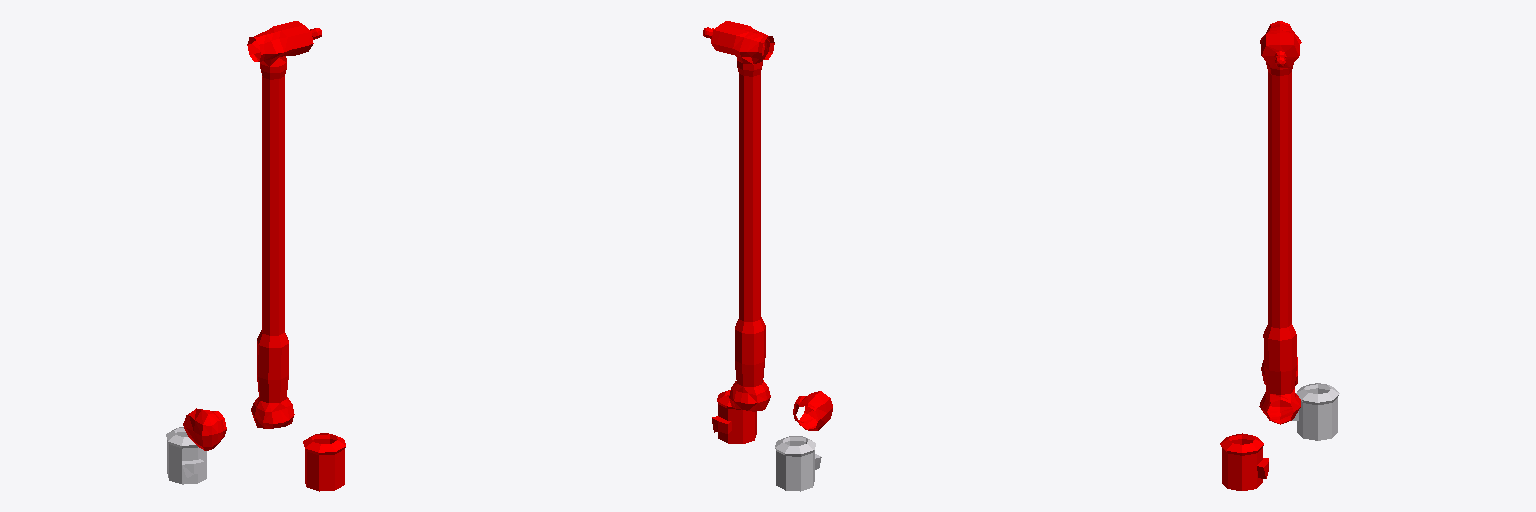
robot.urdf — canadarm3_large:
<?xml version="1.0" ?>
<robot name="canadarm3_large">
	<material name="canadarm_white"><color rgba="1 0. 0. 1"/></material>
	<material name="test"><color rgba=".85 0.84 0.86 1"/></material>

	<link name="link_1"><visual><geometry><mesh filename="canadarm3_large/canadarm3_1 - Surface 1.stl"/></geometry><material name="test"/></visual><collision><geometry><mesh filename="canadarm3_large/canadarm3_1 - Surface 1.stl"/></geometry></collision><inertial><mass value="0.7"/><inertia ixx="0.015" ixy="0" ixz="0" iyy="0.015" iyz="0" izz="0.015"/></inertial></link>
	<link name="link_2"><visual><geometry><mesh filename="canadarm3_large/canadarm3_2 - Surface 1.stl"/></geometry><material name="test"/></visual><collision><geometry><mesh filename="canadarm3_large/canadarm3_2 - Surface 1.stl"/></geometry></collision><inertial><mass value="0.4"/><inertia ixx="0.006" ixy="0" ixz="0" iyy="0.006" iyz="0" izz="0.006"/></inertial></link>
	<link name="link_3"><visual><geometry><mesh filename="canadarm3_large/canadarm3_3 - Surface 1.stl"/></geometry><material name="canadarm_white"/></visual><collision><geometry><mesh filename="canadarm3_large/canadarm3_3 - Surface 1.stl"/></geometry></collision><inertial><mass value="0.35"/><inertia ixx="0.005" ixy="0" ixz="0" iyy="0.005" iyz="0" izz="0.005"/></inertial></link>
	<link name="link_4"><visual><geometry><mesh filename="canadarm3_large/canadarm3_4 - Surface 1.stl"/></geometry><material name="canadarm_white"/></visual><collision><geometry><mesh filename="canadarm3_large/canadarm3_4 - Surface 1.stl"/></geometry></collision><inertial><mass value="0.5"/><inertia ixx="0.01" ixy="0" ixz="0" iyy="0.01" iyz="0" izz="0.01"/></inertial></link>
	<link name="link_5"><visual><geometry><mesh filename="canadarm3_large/canadarm3_5 - Surface 1.stl"/></geometry><material name="canadarm_white"/></visual><collision><geometry><mesh filename="canadarm3_large/canadarm3_5 - Surface 1.stl"/></geometry></collision><inertial><mass value="0.35"/><inertia ixx="0.005" ixy="0" ixz="0" iyy="0.005" iyz="0" izz="0.005"/></inertial></link>
	<link name="link_6"><visual><geometry><mesh filename="canadarm3_large/canadarm3_6 - Surface 1.stl"/></geometry><material name="canadarm_white"/></visual><collision><geometry><mesh filename="canadarm3_large/canadarm3_6 - Surface 1.stl"/></geometry></collision><inertial><mass value="0.35"/><inertia ixx="0.005" ixy="0" ixz="0" iyy="0.005" iyz="0" izz="0.005"/></inertial></link>
	<link name="link_7"><visual><geometry><mesh filename="canadarm3_large/canadarm3_7 - Surface 1.stl"/></geometry><material name="canadarm_white"/></visual><collision><geometry><mesh filename="canadarm3_large/canadarm3_7 - Surface 1.stl"/></geometry></collision><inertial><mass value="0.35"/><inertia ixx="0.005" ixy="0" ixz="0" iyy="0.005" iyz="0" izz="0.005"/></inertial></link>
	<link name="link_8"><visual><geometry><mesh filename="canadarm3_large/canadarm3_8 - Surface 1.stl"/></geometry><material name="canadarm_white"/></visual><collision><geometry><mesh filename="canadarm3_large/canadarm3_8 - Surface 1.stl"/></geometry></collision><inertial><mass value="0.3"/><inertia ixx="0.004" ixy="0" ixz="0" iyy="0.004" iyz="0" izz="0.004"/></inertial></link>

	<joint name="joint_1" type="revolute"><parent link="link_1"/><child link="link_2"/><origin xyz="0 0 0.613788085" rpy="0 0 0"/><axis xyz="0 0 1"/><limit lower="-3.124" upper="3.124" effort="100" velocity="1"/></joint>
	<joint name="joint_2" type="revolute"><parent link="link_2"/><child link="link_3"/><origin xyz="0.0 -0.345 0.0" rpy="0 0 0"/><axis xyz="0 1 0"/><limit lower="-3.124" upper="3.124" effort="100" velocity="1"/></joint>
	<joint name="joint_3" type="revolute"><parent link="link_3"/><child link="link_4"/><origin xyz="0.323 0.0 0.0" rpy="0 0 0"/><axis xyz="1 0 0"/><limit lower="-3.124" upper="3.124" effort="100" velocity="1"/></joint>
	<joint name="joint_4" type="revolute"><parent link="link_4"/><child link="link_5"/><origin xyz="0.37 0.0 3.646211915" rpy="0 0 0"/><axis xyz="1 0 0"/><limit lower="-3.124" upper="3.124" effort="100" velocity="1"/></joint>
	<joint name="joint_5" type="revolute"><parent link="link_5"/><child link="link_6"/><origin xyz="0.335 0.0 -3.646211915" rpy="0 0 0"/><axis xyz="1 0 0"/><limit lower="-3.124" upper="3.124" effort="100" velocity="1"/></joint>
	<joint name="joint_6" type="revolute"><parent link="link_6"/><child link="link_7"/><origin xyz="0.0 -0.345 0.0" rpy="0 0 0"/><axis xyz="0 1 0"/><limit lower="-3.124" upper="3.124" effort="100" velocity="1"/></joint>
	<joint name="joint_7" type="revolute"><parent link="link_7"/><child link="link_8"/><origin xyz="0.0 0.0 -0.613788085" rpy="0 0 0"/><axis xyz="0 0 1"/><limit lower="-3.124" upper="3.124" effort="100" velocity="1"/></joint>
	
</robot>

--- What the picture shows (computed from the rendered views, not written in the file) ---
3 views of the same robot in one strip: view 1: azimuth 30°, elevation 25°; view 2: azimuth 150°, elevation 25°; view 3: azimuth 270°, elevation 25° (orthographic).
Model canadarm3_large with 8 links and 7 joints (7 revolute), rooted at link_1, posed every joint at zero.
Links seen in each view (by area): view 1: link_5, link_8, link_1, link_3; view 2: link_5, link_1, link_8, link_3; view 3: link_5, link_8, link_1.
Boxes of the visible links, bbox=[...] form: link_5: bbox=[247, 21, 321, 428]; link_8: bbox=[303, 433, 345, 491]; link_1: bbox=[166, 427, 206, 484]; link_3: bbox=[183, 408, 226, 450]; link_5: bbox=[703, 21, 774, 411]; link_1: bbox=[775, 436, 821, 491]; link_8: bbox=[712, 390, 756, 443]; link_3: bbox=[793, 391, 832, 430]; link_5: bbox=[1259, 21, 1301, 424]; link_8: bbox=[1220, 433, 1268, 490]; link_1: bbox=[1292, 383, 1339, 440].
Bounding box of the posed robot: 1.43 × 1.1 × 4.41 m (x, y, z).
4 mesh visuals loaded from 8 distinct referenced files (4 binary STL); not drawn: 4 (reference not matched to a file when rendering).
